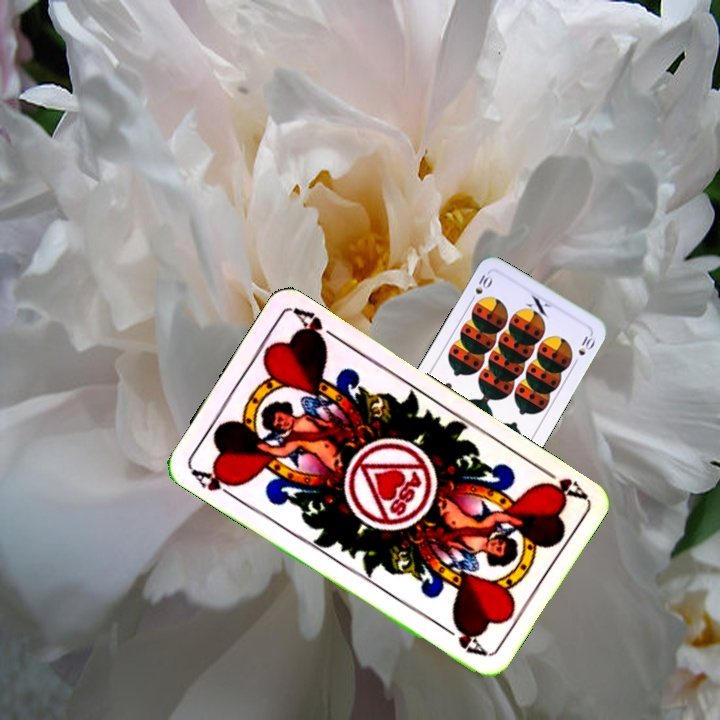HA: (531, 462, 588, 504), (186, 464, 241, 503)
S10: (466, 270, 495, 306)
